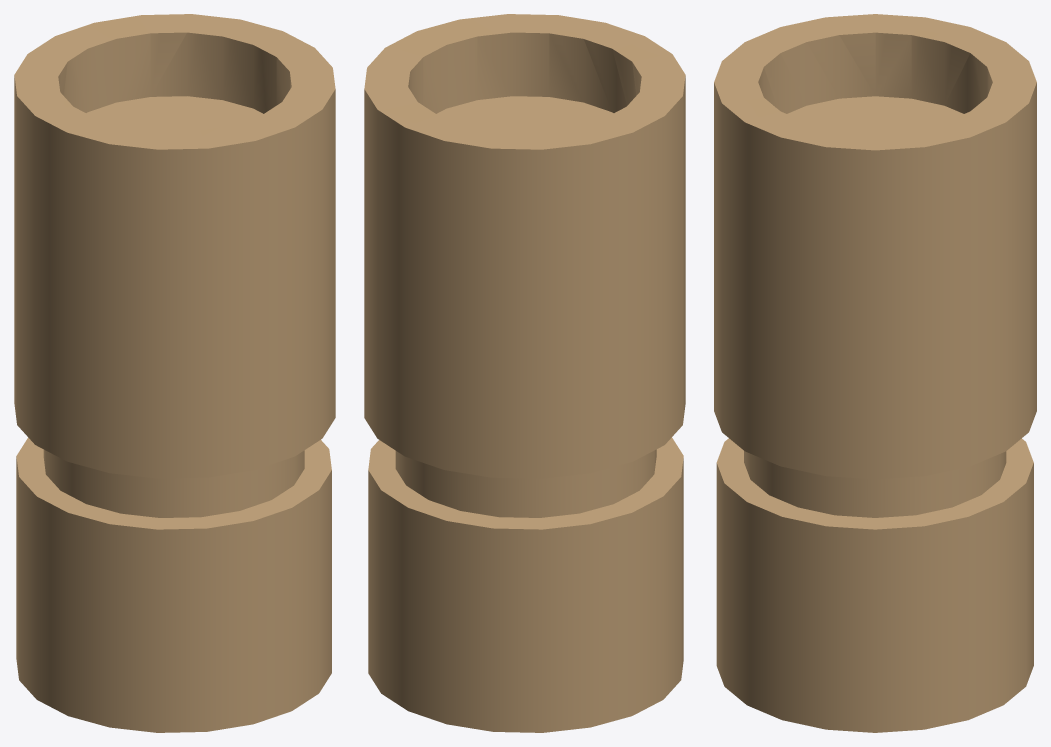
3 renders of one model, left to right at view 1: azimuth 30°, elevation 25°; view 2: azimuth 150°, elevation 25°; view 3: azimuth 270°, elevation 25°, orthographic.
Visible parts, largest first — view 1: 丸2凹_白; view 2: 丸2凹_白; view 3: 丸2凹_白.
Boxes of the visible parts, box(x1,y1,x2,y2) form: 丸2凹_白: box(14, 14, 335, 732); 丸2凹_白: box(364, 14, 685, 732); 丸2凹_白: box(714, 14, 1036, 732).
Bounding box in the file's own units: 0.0261 × 0.0522 × 0.0261.
